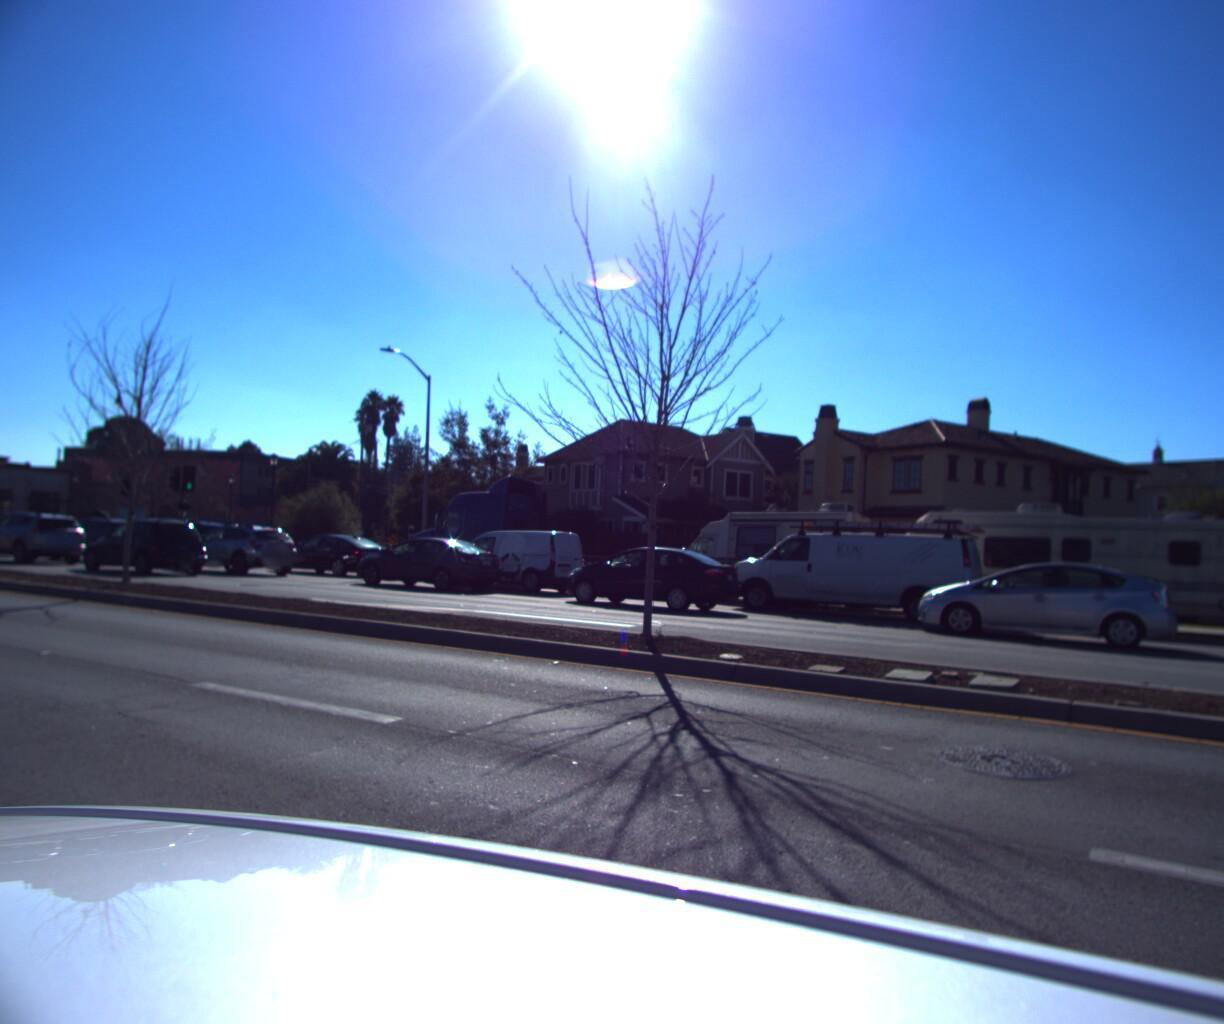car: (718, 514, 984, 631), (905, 550, 1175, 650), (548, 543, 747, 616), (430, 526, 587, 595), (346, 534, 505, 594), (76, 518, 211, 578), (170, 524, 307, 581), (264, 533, 390, 580)
other_vehicle: (879, 492, 1224, 642), (635, 492, 879, 615)
truck: (390, 473, 628, 593)
